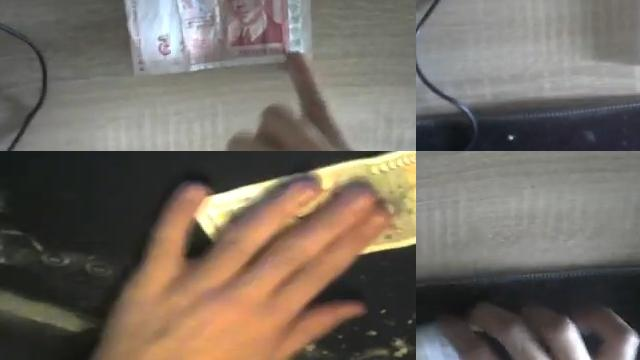20leva: (416, 303, 639, 360)
5leva: (127, 0, 288, 73)
